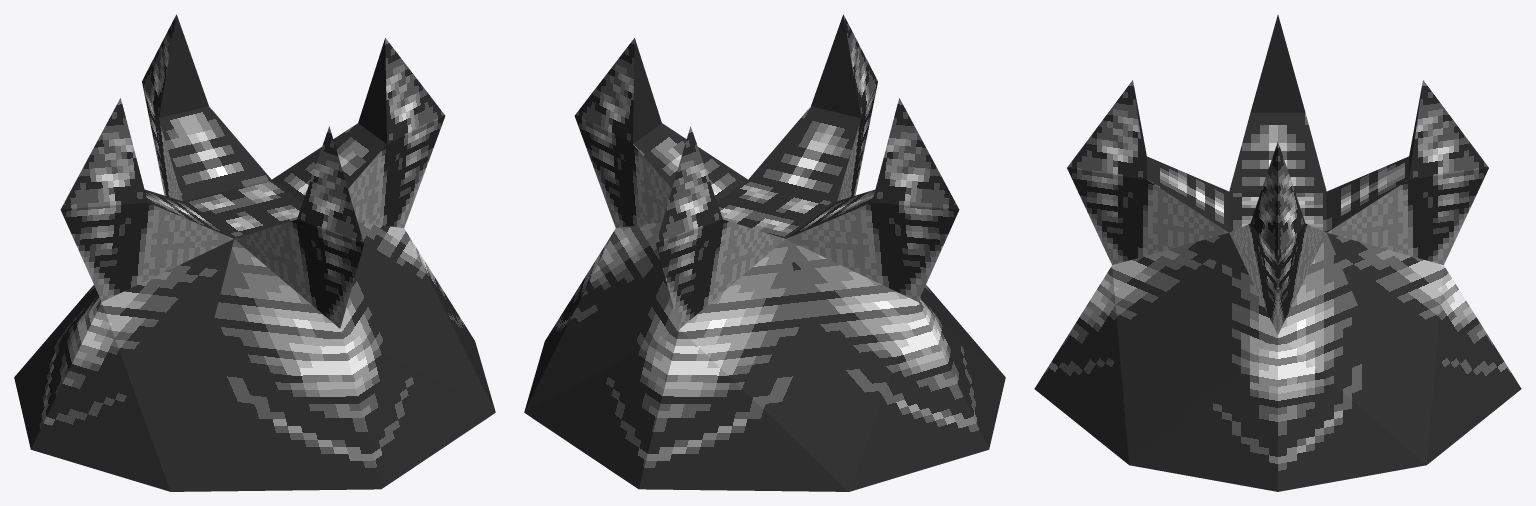
File: DefenseEnhancerY_Anim.glb
3 renders of one model, left to right at view 1: azimuth 30°, elevation 25°; view 2: azimuth 150°, elevation 25°; view 3: azimuth 270°, elevation 25°, orthographic. The views are drawn at different scales.
Visible parts, largest first — view 1: DefenseEnhancer_Anim_part00; view 2: DefenseEnhancer_Anim_part00; view 3: DefenseEnhancer_Anim_part00.
Part boxes in pixels (box(x1,y1,x2,y2)): DefenseEnhancer_Anim_part00: box(14, 14, 495, 491); DefenseEnhancer_Anim_part00: box(524, 14, 1005, 491); DefenseEnhancer_Anim_part00: box(1034, 15, 1521, 491).
Size of the model in its own units: 42.48 by 30.16 by 42.48.
3 materials, 3 textured.
